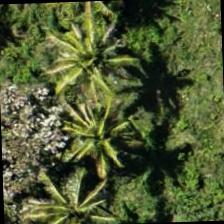Kelapa_Sawit: (50, 98, 144, 191), (52, 15, 146, 108), (24, 157, 117, 223)
